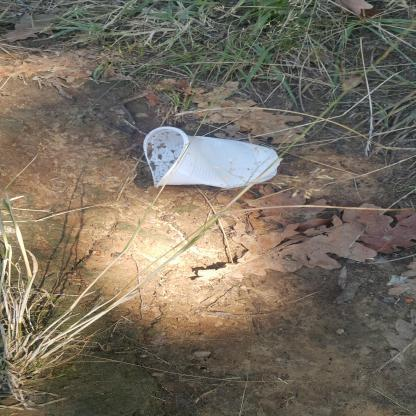plastik: (228, 142, 292, 282)
